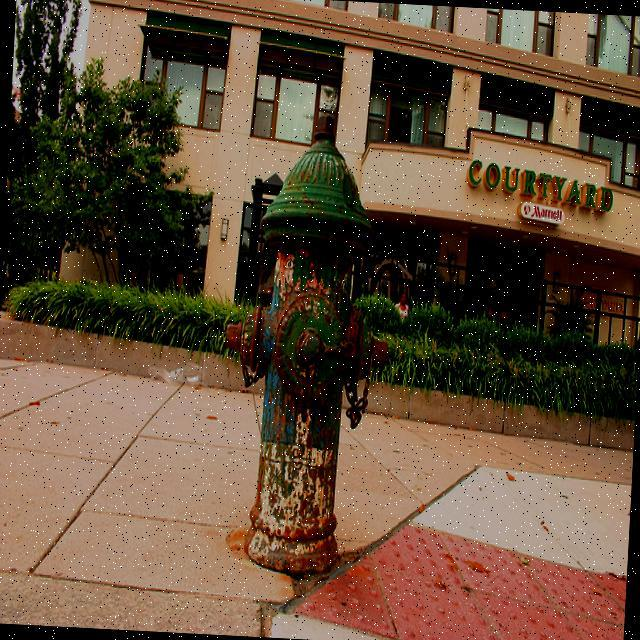fire_hydrant: (212, 111, 398, 582)
